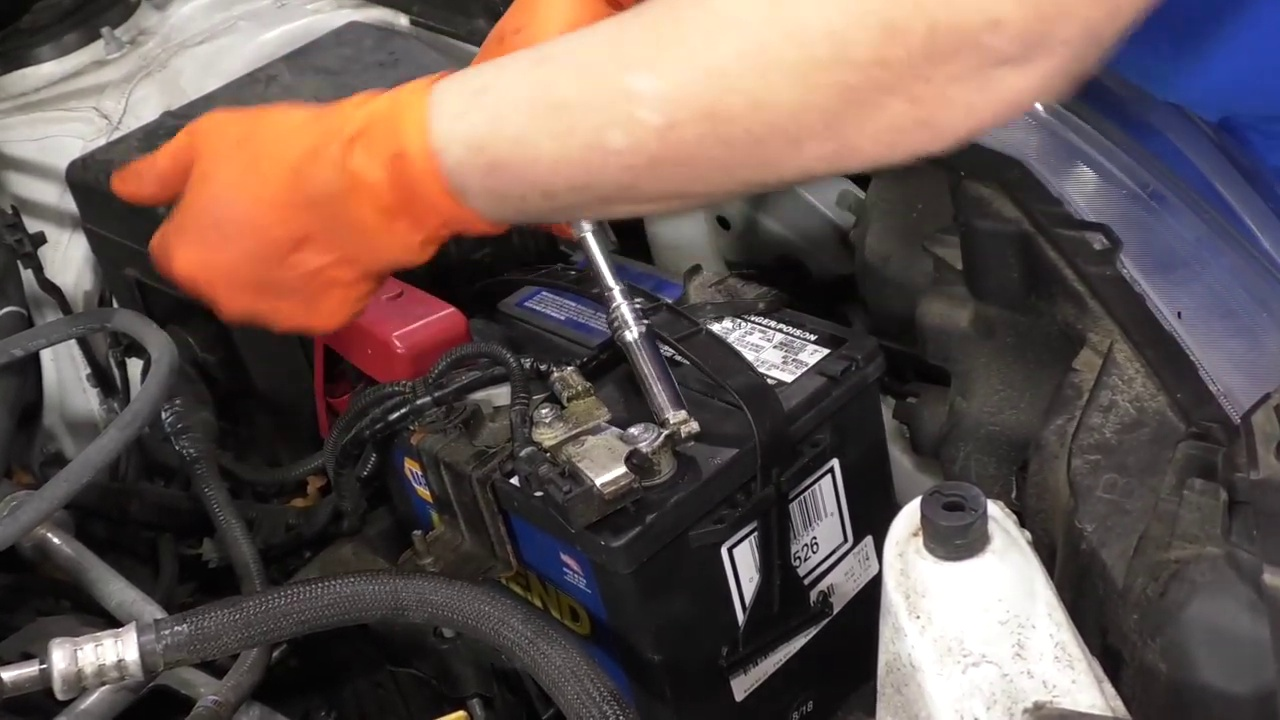battery: (344, 244, 877, 552)
neg_connected: (545, 397, 677, 539)
pos_touched: (186, 173, 473, 430)
